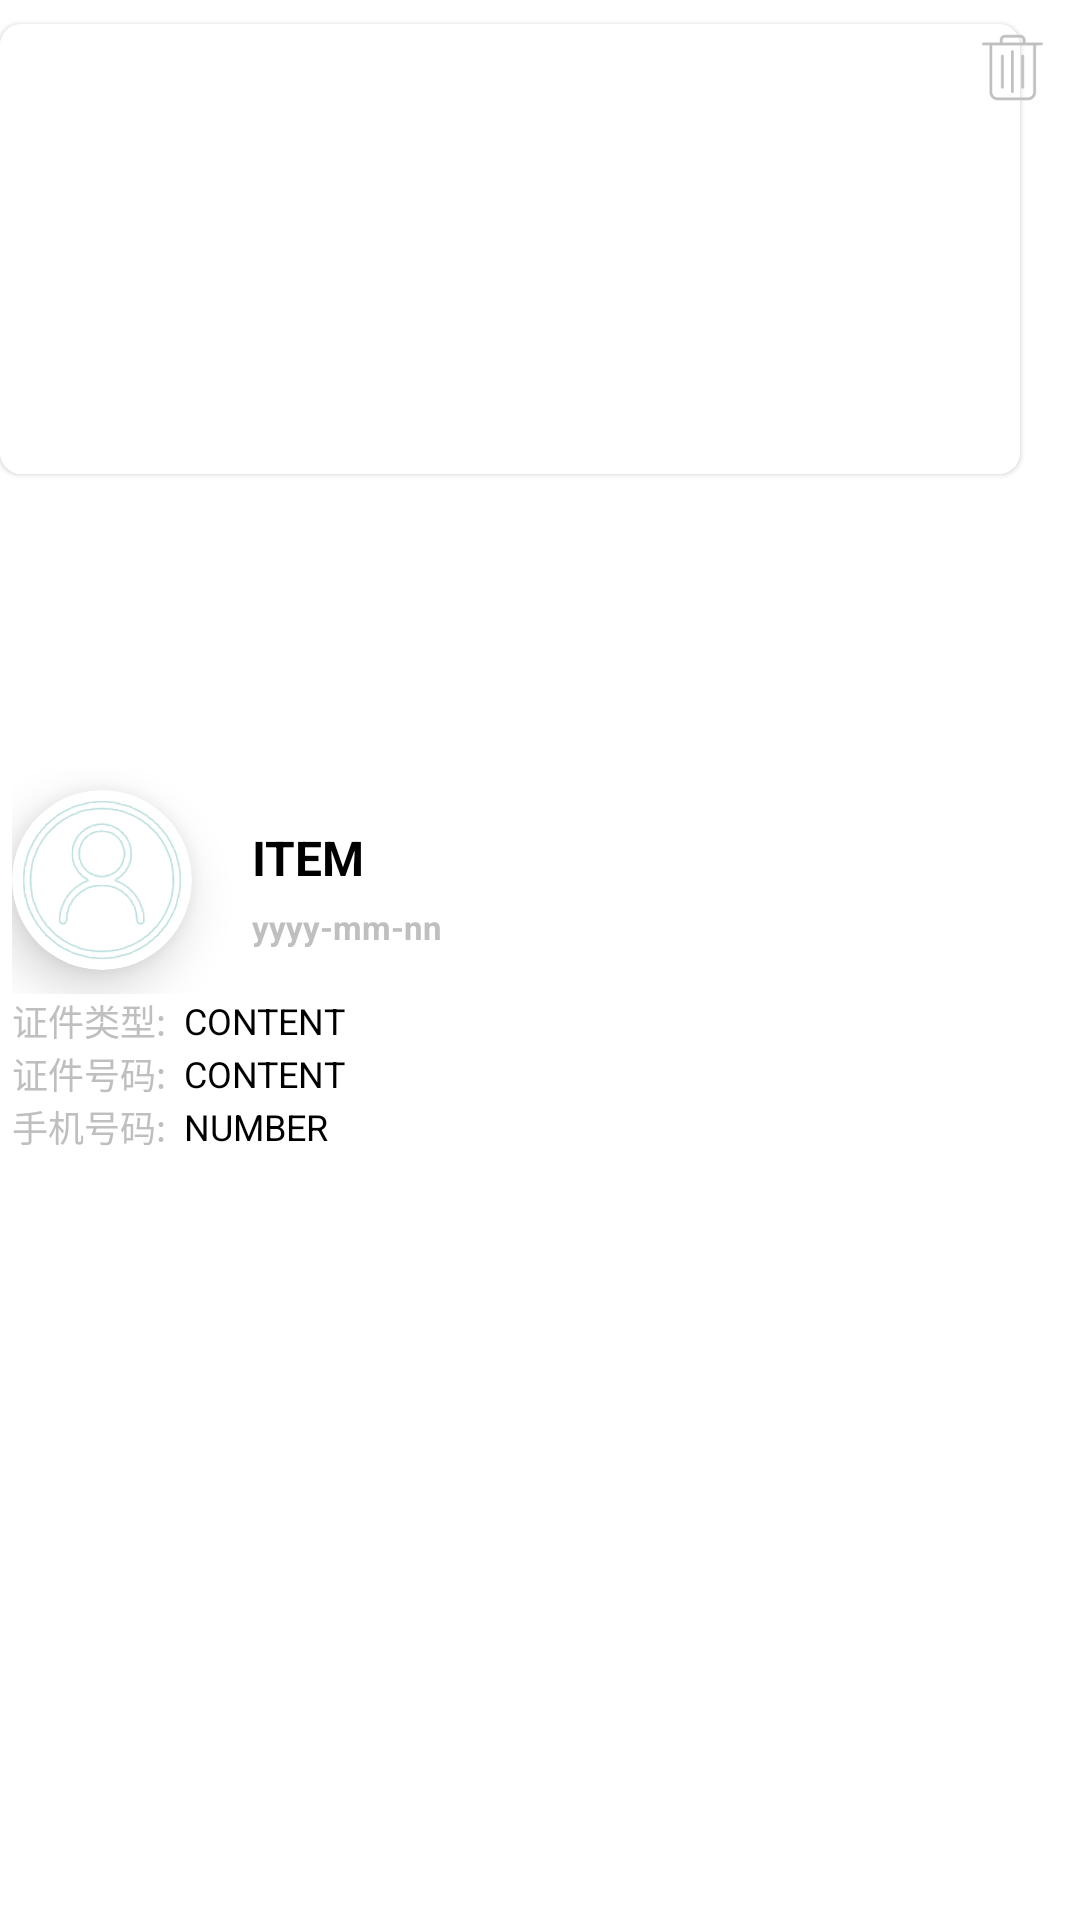

Icons on this 1080*1920 Android screen, each with the point to tap as (x,y):
delete inoculate: (1012,67)
personal: (96,880)
